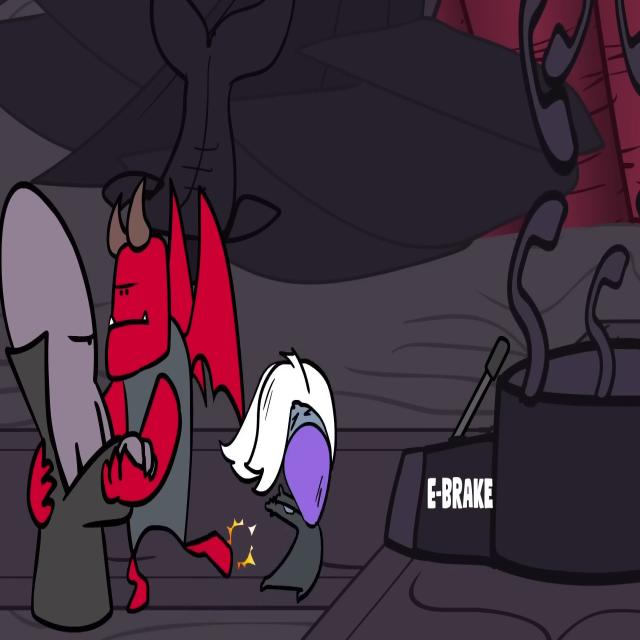miss Demeanor: (218, 346, 337, 606)
